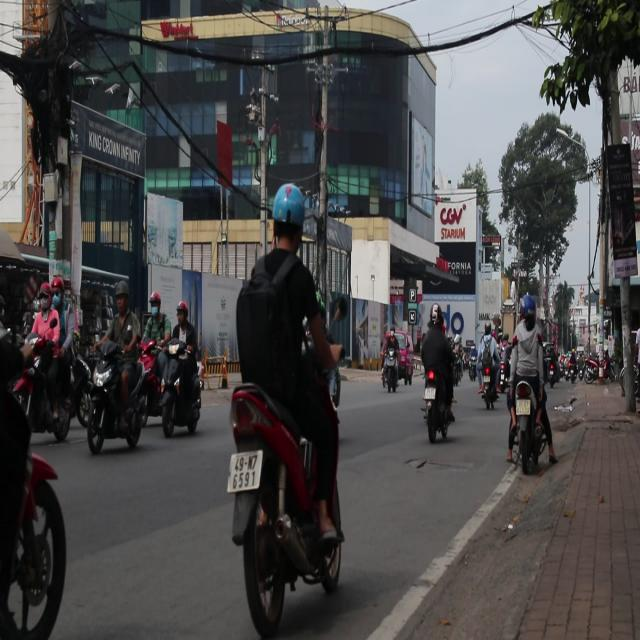motorbike: (223, 373, 349, 634), (2, 418, 70, 638), (15, 296, 81, 443), (81, 332, 154, 454), (156, 330, 203, 437), (508, 378, 546, 474), (422, 382, 454, 454), (481, 359, 495, 415), (386, 346, 398, 396), (593, 356, 614, 384), (576, 358, 598, 384)
